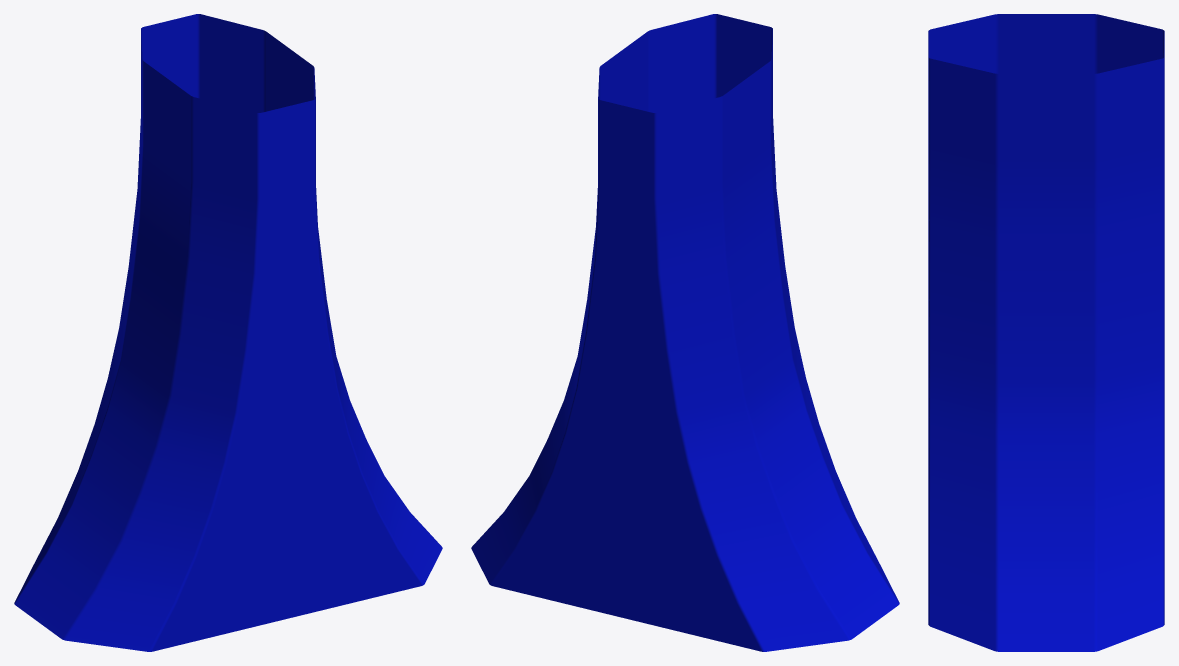
The model's file is TramBridge_Concrete_01.FBX.
3 views of the same model, side by side, from view 1: azimuth 30°, elevation 25°; view 2: azimuth 150°, elevation 25°; view 3: azimuth 270°, elevation 25° (orthographic).
Visible parts, largest first — view 1: TramBridge_Concrete_01_LOD0; view 2: TramBridge_Concrete_01_LOD0; view 3: TramBridge_Concrete_01_LOD0.
Part boxes in pixels (x1,y1,x2,y2): TramBridge_Concrete_01_LOD0: (14, 14, 442, 651); TramBridge_Concrete_01_LOD0: (471, 14, 899, 651); TramBridge_Concrete_01_LOD0: (928, 14, 1164, 651).
Size of the model in its own units: 310 by 400 by 166.
